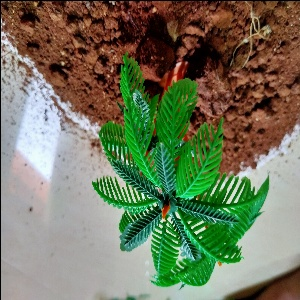plant: (103, 70, 254, 285)
